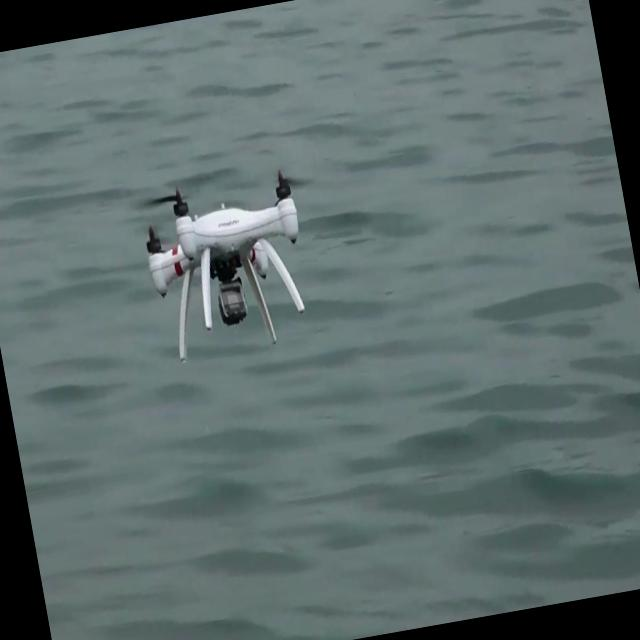drone: (132, 161, 324, 372)
